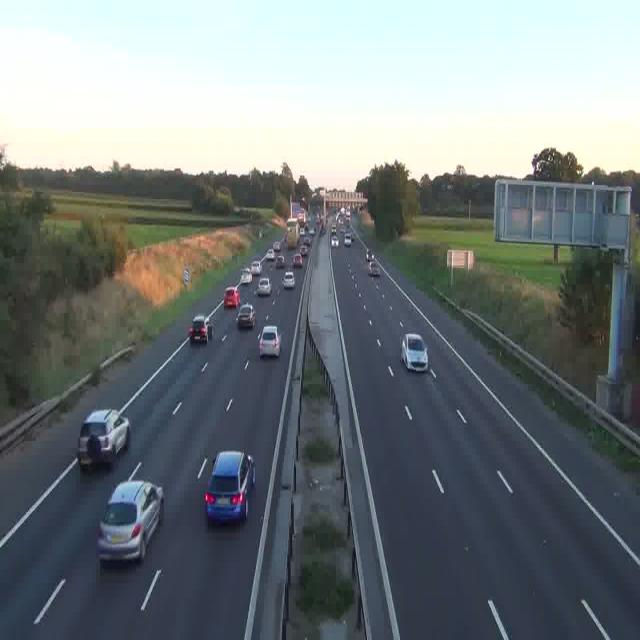car: (98, 480, 164, 563), (205, 451, 255, 522), (77, 410, 129, 469), (401, 332, 427, 370), (259, 324, 281, 356), (188, 315, 212, 344), (238, 303, 256, 328), (224, 287, 240, 309), (256, 277, 272, 298), (367, 260, 379, 278), (283, 271, 295, 288), (241, 268, 253, 284), (249, 260, 261, 274), (274, 254, 286, 267), (292, 253, 302, 266), (365, 248, 373, 261), (300, 244, 308, 257), (331, 235, 339, 246), (329, 226, 336, 236)
